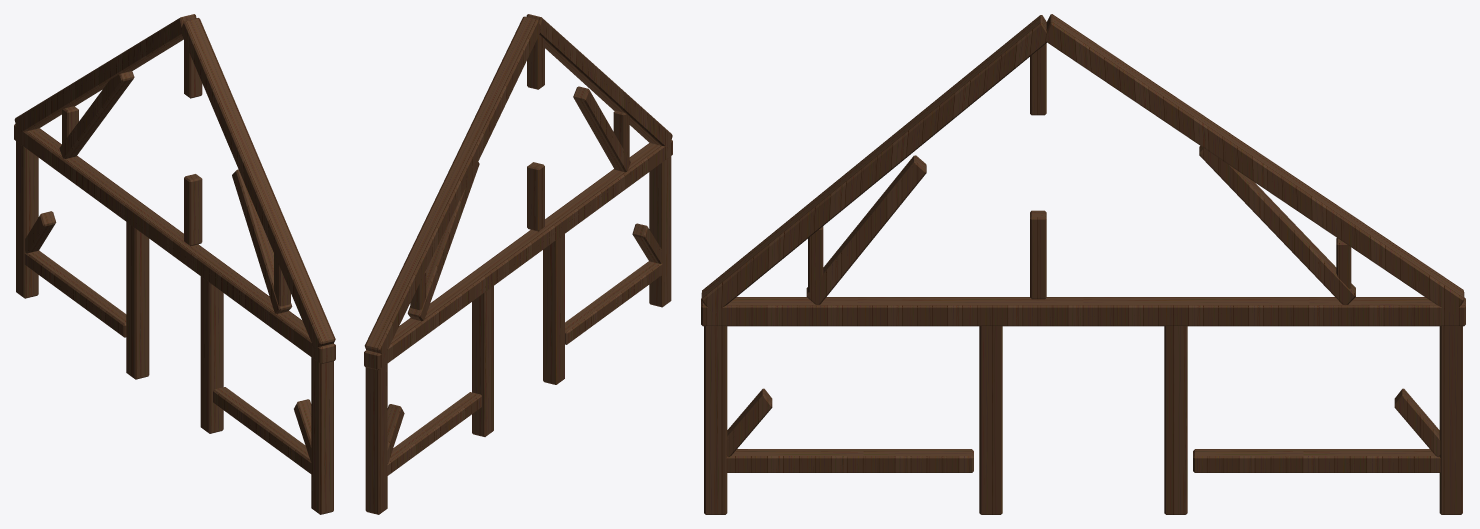
File: SM_HH_V2_Timber_Front.fbx
3 renders of one model, left to right at view 1: azimuth 30°, elevation 25°; view 2: azimuth 150°, elevation 25°; view 3: azimuth 270°, elevation 25°, orthographic. The views are drawn at different scales.
Visible parts, largest first — view 1: HH_V2_Timber_Front; view 2: HH_V2_Timber_Front; view 3: HH_V2_Timber_Front.
Part boxes in pixels (x1,y1,x2,y2): HH_V2_Timber_Front: (14, 14, 335, 514); HH_V2_Timber_Front: (364, 14, 672, 514); HH_V2_Timber_Front: (701, 14, 1465, 514).
Size of the model in its own units: 8.86 by 0.27 by 6.3.
